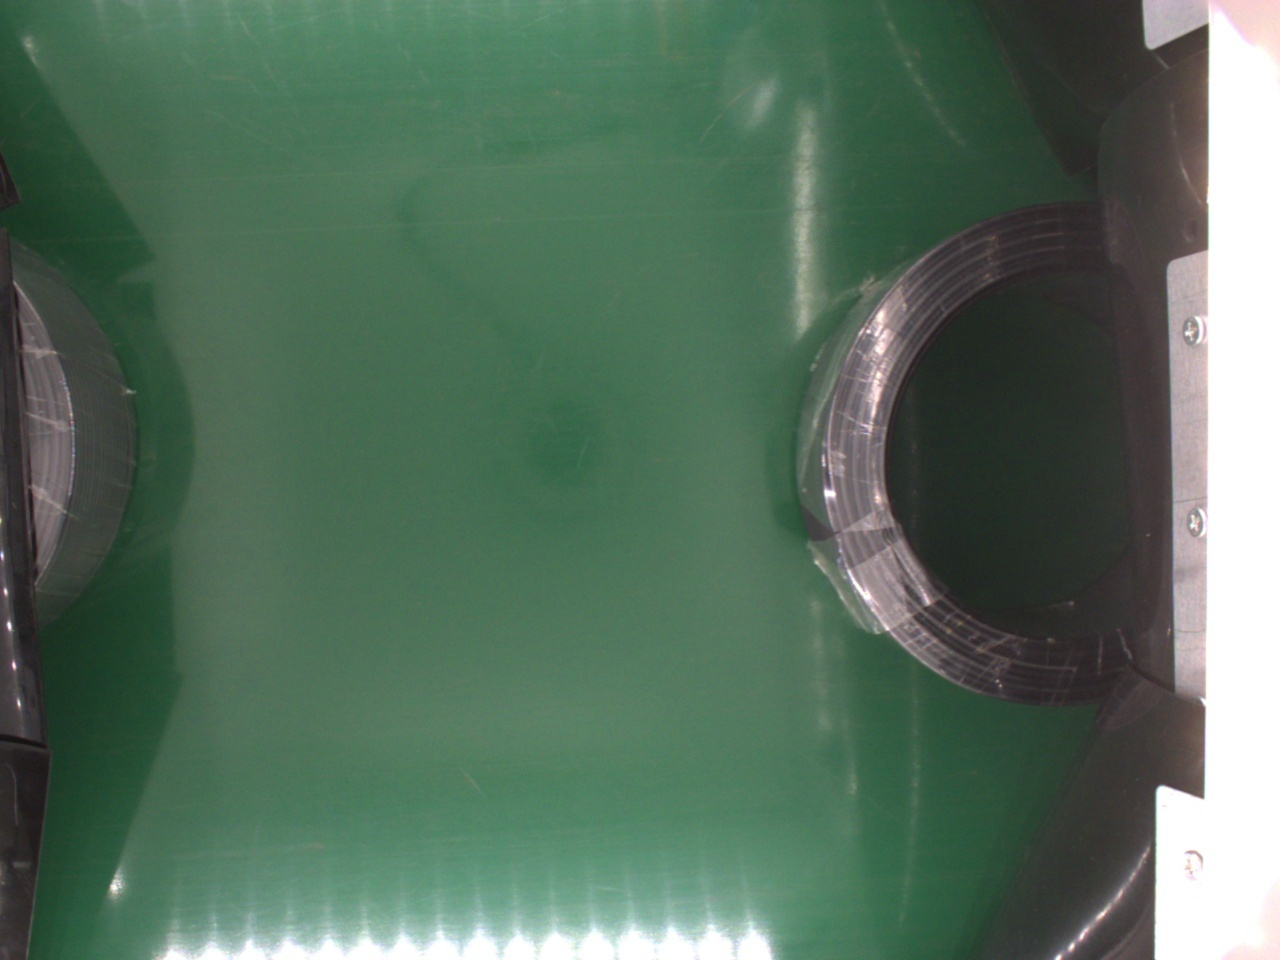black: (798, 203, 1148, 708), (8, 244, 139, 618)
